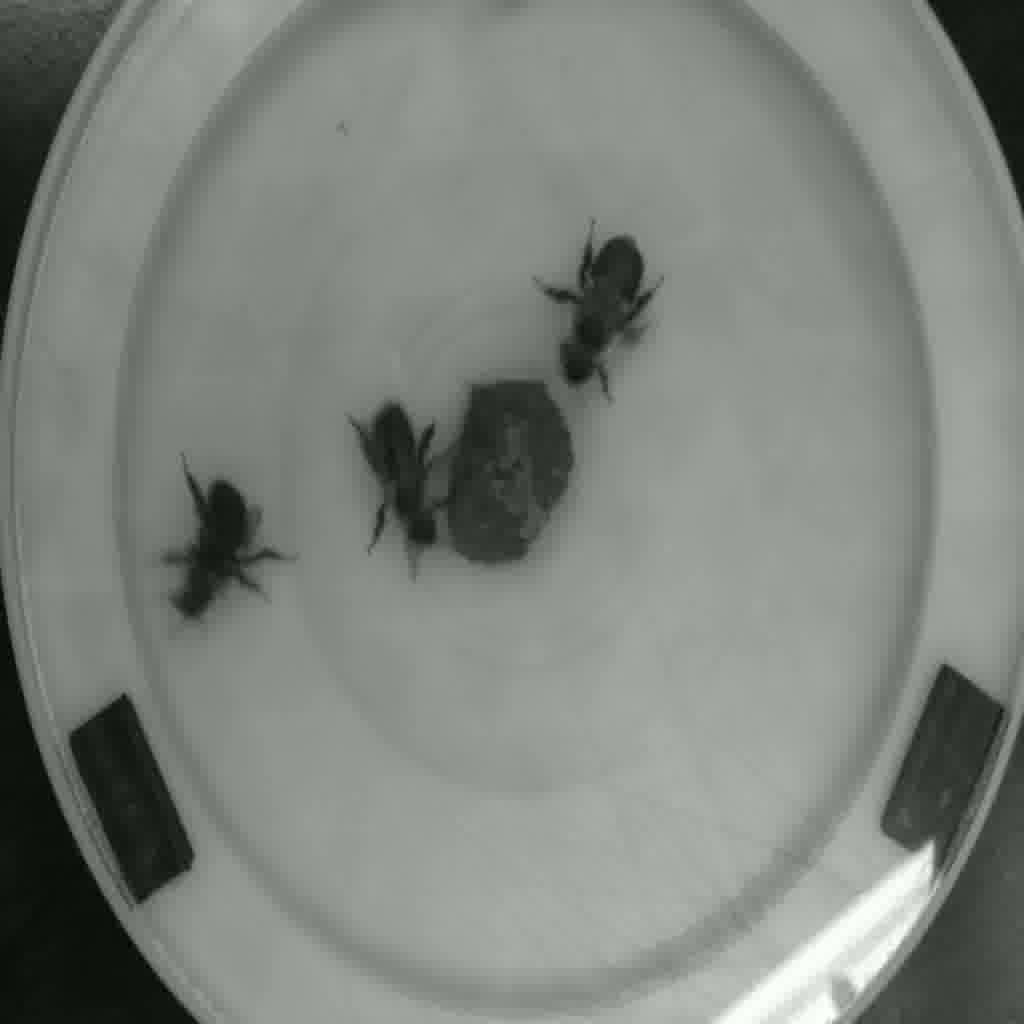bee: (329, 407, 466, 566), (169, 450, 271, 656), (552, 226, 660, 394)
